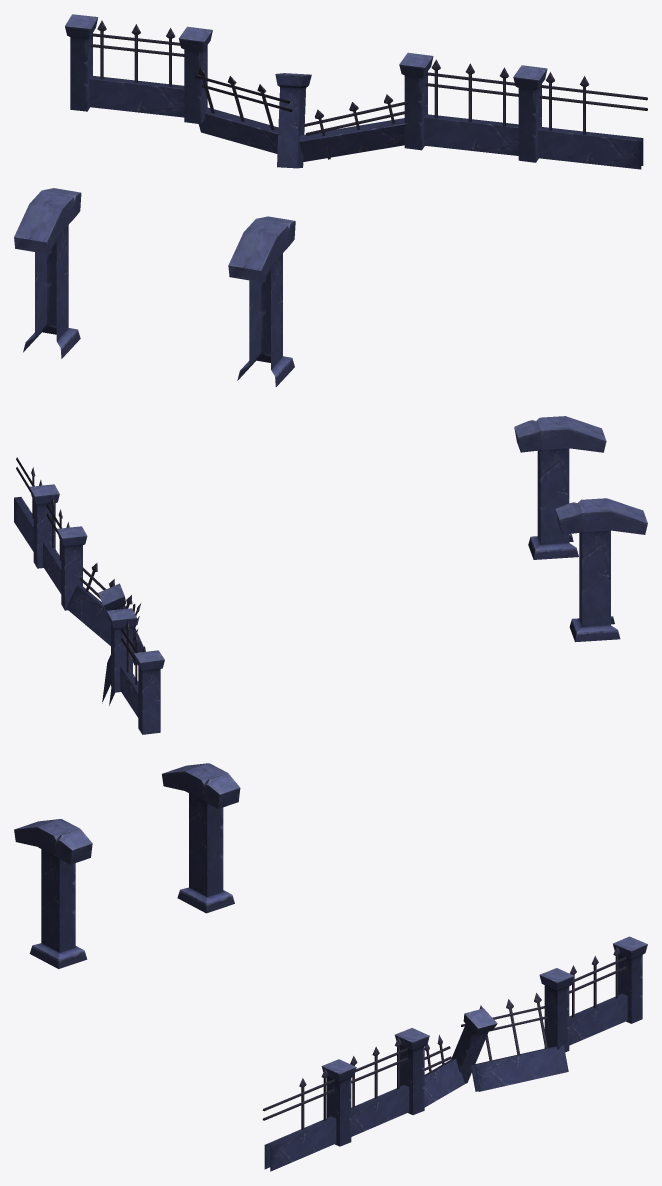
File: Area06_20.fbx
3 views of the same model, one above another, from view 1: azimuth 30°, elevation 25°; view 2: azimuth 150°, elevation 25°; view 3: azimuth 270°, elevation 25° (orthographic). The views are drawn at different scales.
Visible parts, largest first — view 1: Area06_20; view 2: Area06_20; view 3: Area06_20.
Part boxes in pixels (<box>): Area06_20: <box>14,14,647,386</box>; Area06_20: <box>14,416,647,734</box>; Area06_20: <box>14,763,647,1171</box>.
Bounding box in the file's own units: 5002 × 1190 × 4579.
